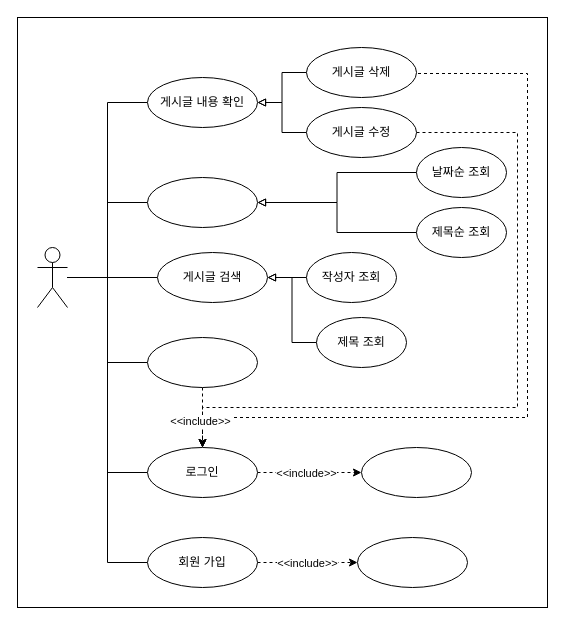
Image size: 565x625. Some labels were removed from this diagram. The box of each missing label's shape, as (x1, y1, x2, y2) in pixels:
Actor: (36, 246, 68, 308)
게시글 목록 조회: (146, 176, 258, 228)
게시글 작성: (146, 336, 258, 388)
메일 인증: (360, 446, 472, 498)
중복 검사: (356, 536, 468, 588)
